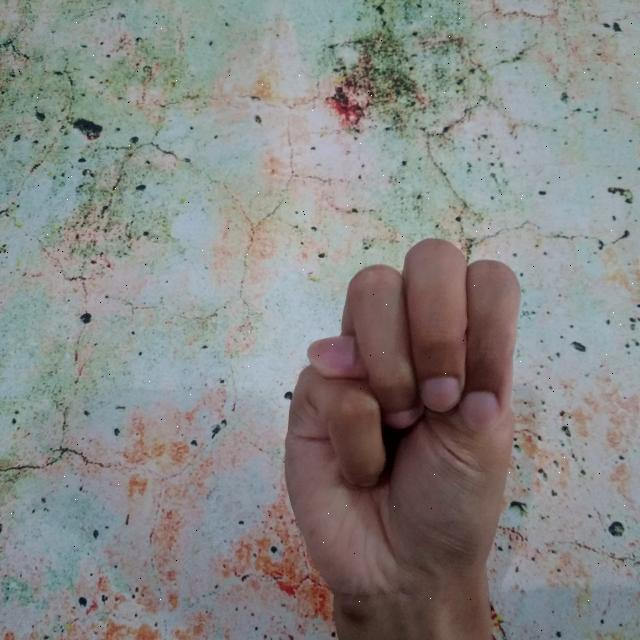M: (272, 232, 531, 640)
